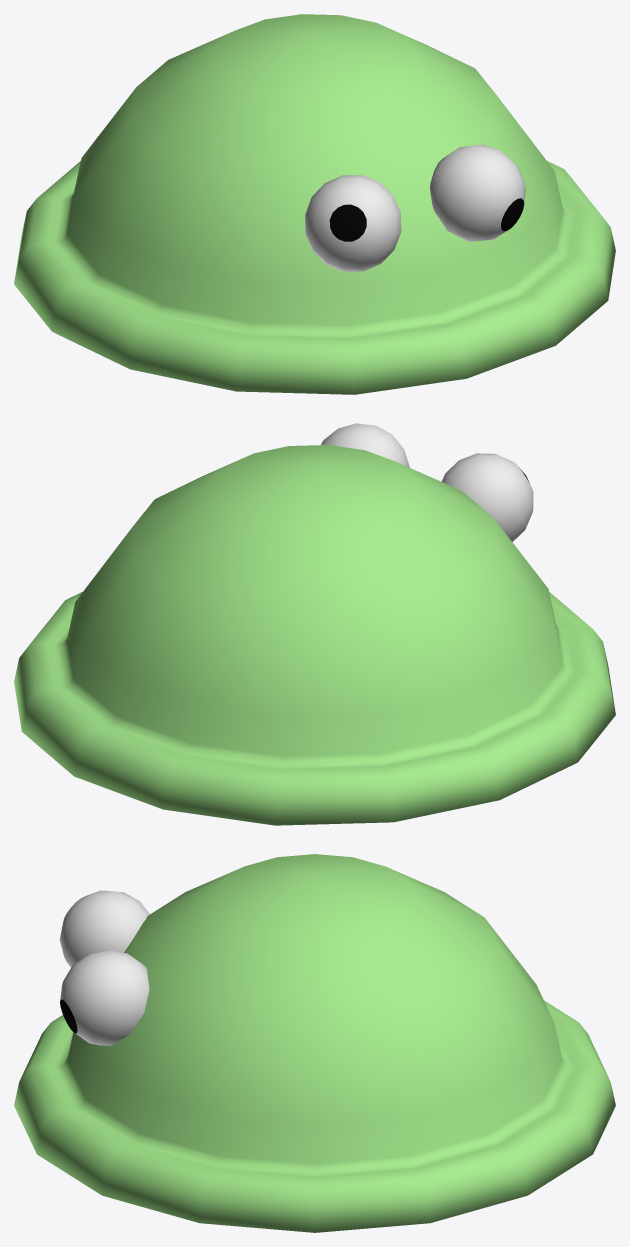
The model's file is parasite.glb.
3 views of the same model, one above another, from view 1: azimuth 30°, elevation 25°; view 2: azimuth 150°, elevation 25°; view 3: azimuth 270°, elevation 25° (orthographic).
Parts seen in each view (by area): view 1: Sphere; view 2: Sphere; view 3: Sphere.
Boxes of the visible parts, x1,y1,x2,y2 form: Sphere: (14,14,615,394); Sphere: (14,423,615,825); Sphere: (14,854,615,1232).
Size of the model in its own units: 0.5565 by 0.2398 by 0.5565.
